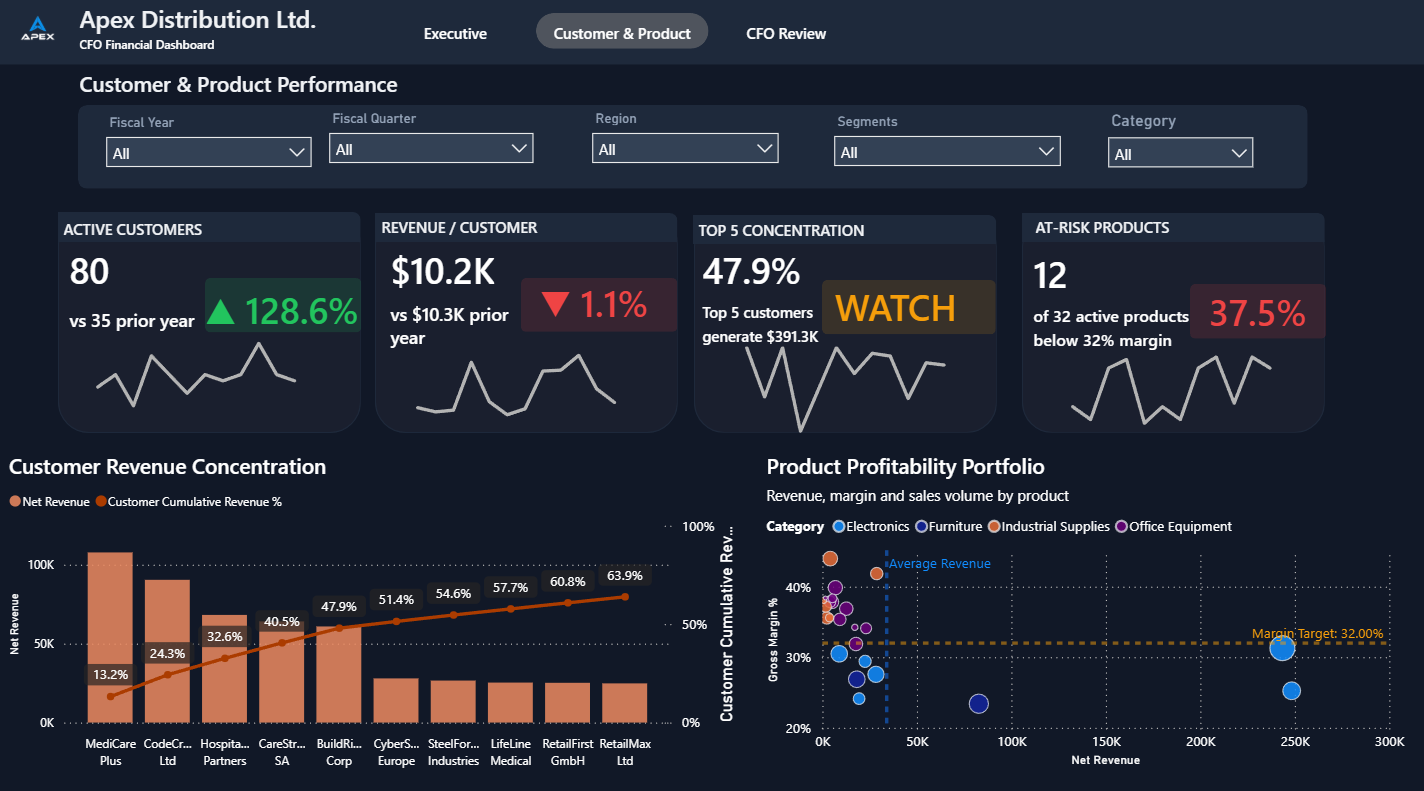

The dashboard page shown, as its layout file describes it:
{"tool":"powerbi","page":{"name":"Customer & Product","canvas":[1280,720],"ordinal":1},"visuals":[{"type":"shape","box":[72.9,100,1101.4,75],"z":0},{"type":"shape","box":[0,0,1279.7,64.5],"z":1000},{"type":"textbox","box":[68.9,3.9,520.6,55.6],"z":2000},{"type":"actionButton","box":[652.4,18.2,108,32],"z":3000},{"type":"actionButton","box":[482.6,18.2,154.5,32],"z":4000},{"type":"actionButton","box":[354.1,18.2,113.5,32],"z":5000},{"type":"slicer","fields":{"Values":["Dim_Calendar.FiscalYear"]},"box":[88.2,103.6,203.6,66.4],"z":6000},{"type":"slicer","fields":{"Values":["Dim_Customers.Region"]},"box":[522.9,100,187.1,62.1],"z":7000},{"type":"slicer","fields":{"Values":["Dim_Customers.Segment"]},"box":[739.3,102.9,222.9,63.6],"z":8000},{"type":"textbox","box":[69,63.6,333.1,44.8],"z":9000},{"type":"shape","box":[54.6,197,271.3,197],"z":10000},{"type":"shape","box":[185.9,255.2,140,48.8],"z":11000},{"type":"cardVisual","fields":{"Data":["KPI Helpers.Active Customers"]},"box":[36,207,174,125],"z":12000},{"type":"shape","box":[55,196,271,27],"z":13000},{"type":"textbox","box":[55,198,165,27],"z":14000},{"type":"lineChart","fields":{"Category":["Dim_Calendar.FiscalMonth"],"Y":["KPI Helpers.Active Customers"]},"box":[59.1,283,270.4,103.9],"z":15000},{"type":"cardVisual","fields":{"Data":["KPI Helpers.Active Customers Trend Label"]},"box":[169,248,173,66],"z":16000},{"type":"shape","box":[338.5,197,271.3,197],"z":17000},{"type":"shape","box":[469.2,255.4,140,48.5],"z":18000},{"type":"cardVisual","fields":{"Data":["KPI Helpers.Revenue per Customer"]},"box":[323,210,176,238],"z":19000},{"type":"shape","box":[338.5,197.2,270.9,26.4],"z":20000},{"type":"textbox","box":[339,196,173,28],"z":21000},{"type":"lineChart","fields":{"Category":["Dim_Calendar.FiscalMonth"],"Y":["KPI Helpers.Revenue per Customer"]},"box":[345.7,283,270.4,103.9],"z":22000},{"type":"cardVisual","fields":{"Data":["KPI Helpers.Revenue per Customer Trend Label"]},"box":[469,240,164,70],"z":23000},{"type":"shape","box":[624.2,199.7,271.3,194.3],"z":24000},{"type":"shape","box":[739.2,256.8,155.6,48.6],"z":25000},{"type":"shape","box":[623.7,198.6,271.6,26.3],"z":26000},{"type":"textbox","box":[623.7,198.6,172.1,27.4],"z":27000},{"type":"lineChart","fields":{"Category":["Dim_Calendar.FiscalMonth"],"Y":["KPI Helpers.Top 5 Customer Concentration %"]},"box":[640,304,271,104],"z":28000},{"type":"cardVisual","fields":{"Data":["KPI Helpers.Top 5 Concentration Status"]},"box":[733.4,236.4,191.6,84.6],"z":29000},{"type":"cardVisual","fields":{"Data":["KPI Helpers.Top 5 Customer Concentration %"]},"box":[603,212,206.2,216.9],"z":30000},{"type":"shape","box":[917.9,199.7,271.3,194.3],"z":31000},{"type":"shape","box":[1068,261,122,49],"z":32000},{"type":"shape","box":[918,197,271.3,26],"z":33000},{"type":"textbox","box":[924.7,196.3,172.7,27.3],"z":34000},{"type":"lineChart","fields":{"Category":["Dim_Calendar.FiscalMonth"],"Y":["KPI Helpers.At-Risk Products %"]},"box":[932,308,271,103],"z":35000},{"type":"cardVisual","fields":{"Data":["KPI Helpers.At-Risk Products Label"]},"box":[1068,247,187,72],"z":36000},{"type":"cardVisual","fields":{"Data":["KPI Helpers.At-Risk Products"]},"box":[899,216,199,218],"z":37000},{"type":"slicer","fields":{"Values":["Dim_Calendar.FiscalQuarter"]},"box":[287.1,100,202.9,69.3],"z":38000},{"type":"slicer","fields":{"Values":["Dim_Products.Category"]},"box":[985,101.4,150,66.4],"z":39000},{"type":"lineClusteredColumnComboChart","title":"Customer Revenue Concentration","fields":{"Category":["Dim_Customers.CustomerName"],"Y":["Measure.Net Revenue"],"Y2":["Measure.Customer Cumulative Revenue %"]},"box":[10.7,411.4,649.7,286],"z":40000},{"type":"scatterChart","title":"Product Profitability Portfolio","fields":{"X":["Measure.Net Revenue"],"Y":["Revenue Growth Scenario.Gross Margin %"],"Size":["Measure.Units Sold"],"Series":["Dim_Products.Category"],"Category":["Dim_Products.SubCategory"]},"box":[683.8,411.4,581.6,286],"z":41000},{"type":"image","box":[0,0,72.7,63.6],"z":42000}]}

Visuals, with their boxes in screenshot pixels (x1, y1, x2, y2), scaled from the page's 1280x720 canvas onto the 1424x791 screenshot:
shape: pyautogui.locateOnScreen(81, 110, 1306, 192)
shape: pyautogui.locateOnScreen(0, 0, 1423, 71)
textbox: pyautogui.locateOnScreen(77, 4, 656, 65)
actionButton: pyautogui.locateOnScreen(726, 20, 846, 55)
actionButton: pyautogui.locateOnScreen(537, 20, 709, 55)
actionButton: pyautogui.locateOnScreen(394, 20, 520, 55)
slicer - Dim_Calendar.FiscalYear: pyautogui.locateOnScreen(98, 114, 325, 187)
slicer - Dim_Customers.Region: pyautogui.locateOnScreen(582, 110, 790, 178)
slicer - Dim_Customers.Segment: pyautogui.locateOnScreen(822, 113, 1070, 183)
textbox: pyautogui.locateOnScreen(77, 70, 447, 119)
shape: pyautogui.locateOnScreen(61, 216, 363, 433)
shape: pyautogui.locateOnScreen(207, 280, 363, 334)
cardVisual - KPI Helpers.Active Customers: pyautogui.locateOnScreen(40, 227, 234, 365)
shape: pyautogui.locateOnScreen(61, 215, 363, 245)
textbox: pyautogui.locateOnScreen(61, 218, 245, 247)
lineChart - Dim_Calendar.FiscalMonth x KPI Helpers.Active Customers: pyautogui.locateOnScreen(66, 311, 367, 425)
cardVisual - KPI Helpers.Active Customers Trend Label: pyautogui.locateOnScreen(188, 272, 380, 345)
shape: pyautogui.locateOnScreen(377, 216, 678, 433)
shape: pyautogui.locateOnScreen(522, 281, 678, 334)
cardVisual - KPI Helpers.Revenue per Customer: pyautogui.locateOnScreen(359, 231, 555, 492)
shape: pyautogui.locateOnScreen(377, 217, 678, 246)
textbox: pyautogui.locateOnScreen(377, 215, 570, 246)
lineChart - Dim_Calendar.FiscalMonth x KPI Helpers.Revenue per Customer: pyautogui.locateOnScreen(385, 311, 685, 425)
cardVisual - KPI Helpers.Revenue per Customer Trend Label: pyautogui.locateOnScreen(522, 264, 704, 341)
shape: pyautogui.locateOnScreen(694, 219, 996, 433)
shape: pyautogui.locateOnScreen(822, 282, 995, 336)
shape: pyautogui.locateOnScreen(694, 218, 996, 247)
textbox: pyautogui.locateOnScreen(694, 218, 885, 248)
lineChart - Dim_Calendar.FiscalMonth x KPI Helpers.Top 5 Customer Concentration %: pyautogui.locateOnScreen(712, 334, 1013, 448)
cardVisual - KPI Helpers.Top 5 Concentration Status: pyautogui.locateOnScreen(816, 260, 1029, 353)
cardVisual - KPI Helpers.Top 5 Customer Concentration %: pyautogui.locateOnScreen(671, 233, 900, 471)
shape: pyautogui.locateOnScreen(1021, 219, 1323, 433)
shape: pyautogui.locateOnScreen(1188, 287, 1324, 341)
shape: pyautogui.locateOnScreen(1021, 216, 1323, 245)
textbox: pyautogui.locateOnScreen(1029, 216, 1221, 246)
lineChart - Dim_Calendar.FiscalMonth x KPI Helpers.At-Risk Products %: pyautogui.locateOnScreen(1037, 338, 1338, 452)
cardVisual - KPI Helpers.At-Risk Products Label: pyautogui.locateOnScreen(1188, 271, 1396, 350)
cardVisual - KPI Helpers.At-Risk Products: pyautogui.locateOnScreen(1000, 237, 1222, 477)
slicer - Dim_Calendar.FiscalQuarter: pyautogui.locateOnScreen(319, 110, 545, 186)
slicer - Dim_Products.Category: pyautogui.locateOnScreen(1096, 111, 1263, 184)
"Customer Revenue Concentration" lineClusteredColumnComboChart: pyautogui.locateOnScreen(12, 452, 735, 766)
"Product Profitability Portfolio" scatterChart: pyautogui.locateOnScreen(761, 452, 1408, 766)
image: pyautogui.locateOnScreen(0, 0, 81, 70)
